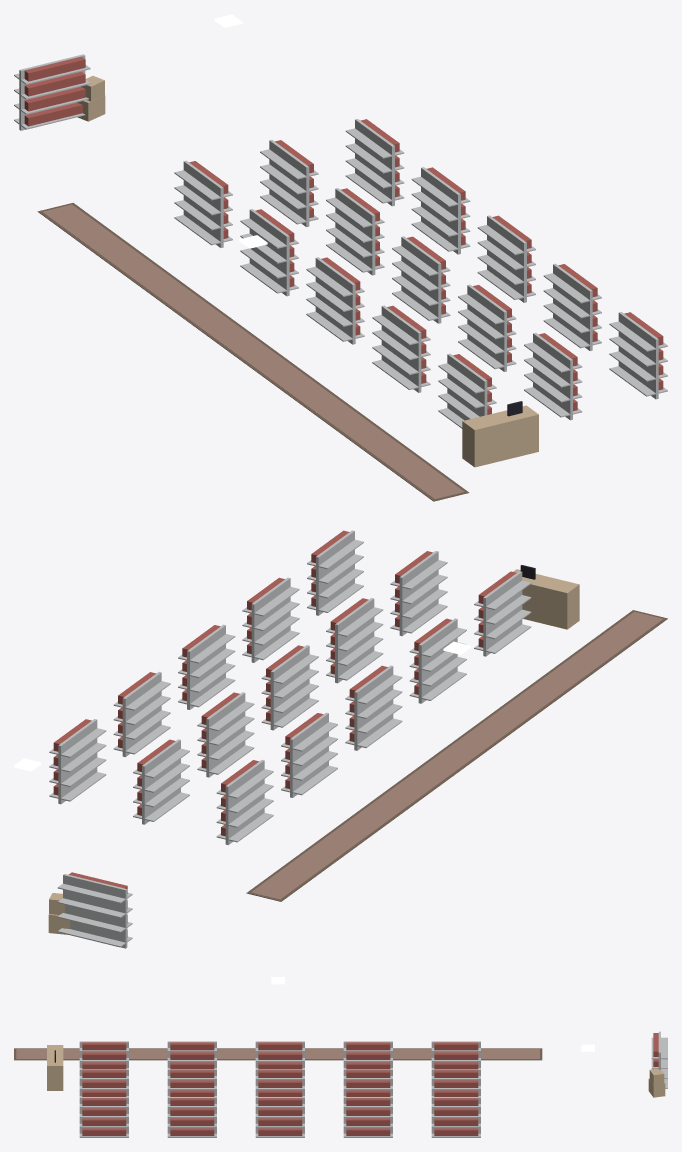
The model's file is fine-s0.glb.
The picture shows the model from 3 angles, top to bottom: view 1: azimuth 30°, elevation 25°; view 2: azimuth 150°, elevation 25°; view 3: azimuth 270°, elevation 25°; orthographic projection. The views are drawn at different scales.
Parts seen in each view (by area): view 1: soft-s0, shelving.000, shop-counter.000, shelf.002, shelf.003, shelf.000, shelf.014, shelf.006, shelf.007, shelf.011, shelf.005, shelf.010 (+7 smaller); view 2: soft-s0, shelving.000, shelf.002, shelf.004, shelf.006, shelf.008, shelf.010, shelf.009, shelf.007, shelf.011, shelf.013, shelf.000 (+7 smaller); view 3: soft-s0, shelf.010, shelf.011, shelf.012, shelf.013, shelf.014, shelf.000, shelf.001, shelf.002, shelf.003, shelf.004, shelf.005 (+7 smaller).
Part boxes in pixels (x1=…): soft-s0: x1=37, y1=202, x2=469, y2=501; shelving.000: x1=14, y1=54, x2=90, y2=130; shop-counter.000: x1=462, y1=401, x2=538, y2=467; shelf.002: x1=306, y1=257, x2=364, y2=344; shelf.003: x1=372, y1=305, x2=430, y2=392; shelf.000: x1=174, y1=160, x2=232, y2=247; shelf.014: x1=609, y1=312, x2=667, y2=399; shelf.006: x1=326, y1=188, x2=384, y2=275; shelf.007: x1=392, y1=236, x2=450, y2=323; shelf.011: x1=411, y1=167, x2=470, y2=254; shelf.005: x1=260, y1=140, x2=318, y2=227; shelf.010: x1=345, y1=119, x2=404, y2=206; soft-s0: x1=246, y1=610, x2=667, y2=901; shelving.000: x1=57, y1=872, x2=132, y2=948; shelf.002: x1=345, y1=665, x2=402, y2=750; shelf.004: x1=474, y1=571, x2=531, y2=656; shelf.006: x1=197, y1=692, x2=254, y2=777; shelf.008: x1=326, y1=598, x2=383, y2=683; shelf.010: x1=49, y1=719, x2=106, y2=804; shelf.009: x1=390, y1=551, x2=447, y2=636; shelf.007: x1=261, y1=645, x2=318, y2=730; shelf.011: x1=113, y1=672, x2=170, y2=757; shelf.013: x1=242, y1=577, x2=299, y2=662; shelf.000: x1=216, y1=760, x2=273, y2=845; soft-s0: x1=14, y1=1048, x2=542, y2=1060; shelf.010: x1=431, y1=1097, x2=480, y2=1137; shelf.011: x1=343, y1=1097, x2=392, y2=1137; shelf.012: x1=255, y1=1097, x2=304, y2=1137; shelf.013: x1=167, y1=1097, x2=216, y2=1137; shelf.014: x1=79, y1=1097, x2=128, y2=1137; shelf.000: x1=431, y1=1041, x2=480, y2=1069; shelf.001: x1=343, y1=1041, x2=392, y2=1069; shelf.002: x1=255, y1=1041, x2=304, y2=1069; shelf.003: x1=167, y1=1041, x2=216, y2=1069; shelf.004: x1=79, y1=1041, x2=128, y2=1069; shelf.005: x1=431, y1=1069, x2=480, y2=1096.
Bounding box in the file's own units: 7.94 × 2.99 × 23.79.
